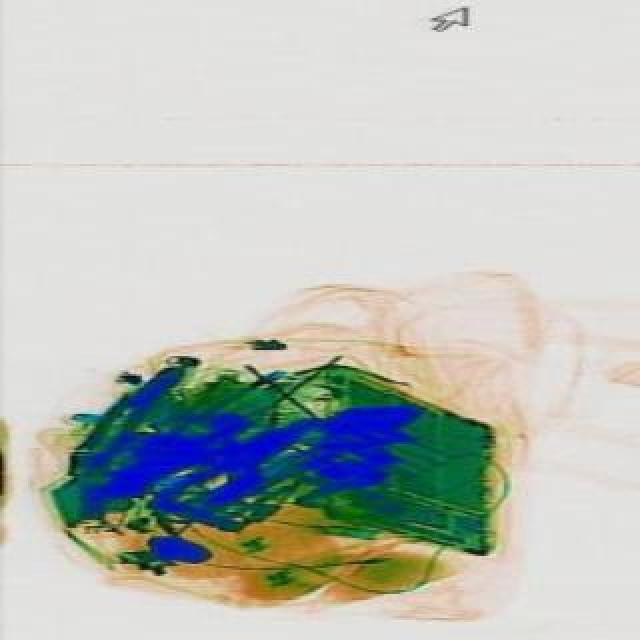wrench: (80, 350, 202, 466)
